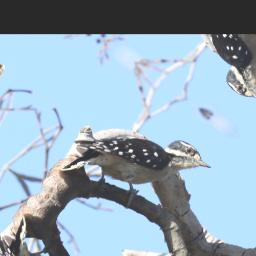Woodpecker: (52, 89, 218, 239)
